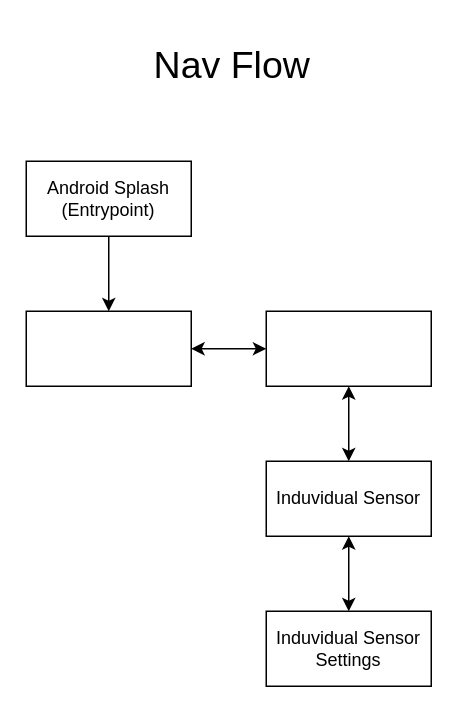
The diagram is 458 pixels wide and 713 high, and some of its shapes have lost their labels. The shapes that lost their labels are listed below. From the top down, each one's centre as x and y in pixels, then its label:
At (x=108, y=348): "Main Menu".
At (x=348, y=348): "Sensors Directory".
